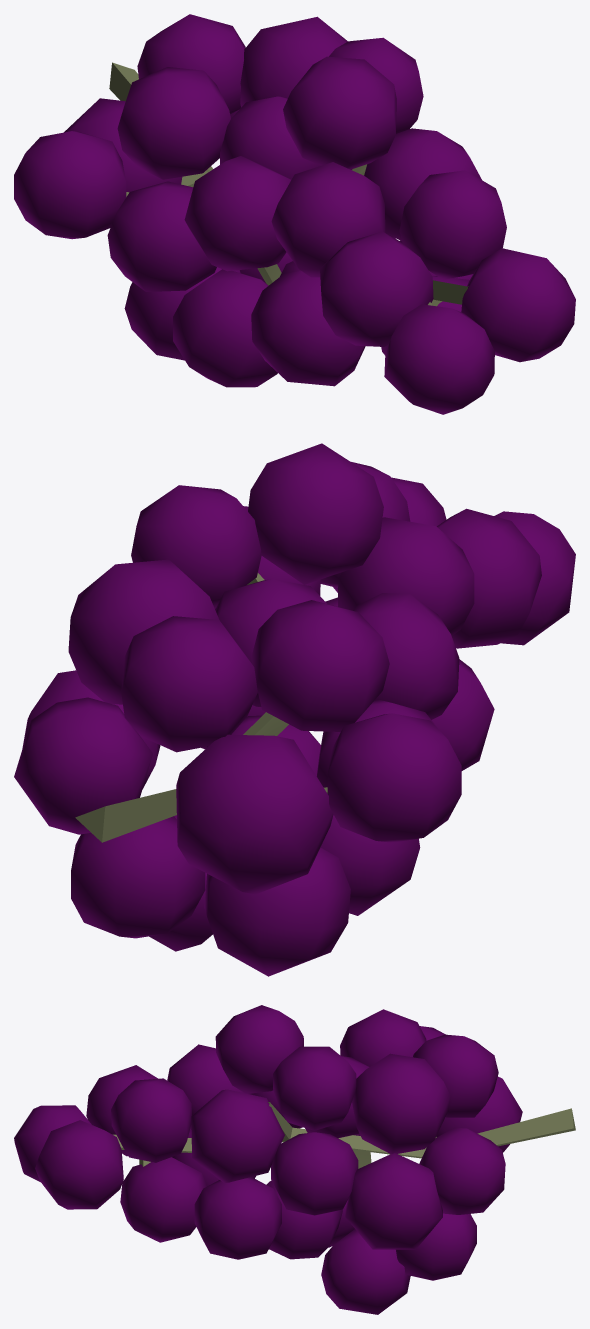
Rendered from Grapes.fbx.
3 renders of one model, top to bottom at view 1: azimuth 30°, elevation 25°; view 2: azimuth 150°, elevation 25°; view 3: azimuth 270°, elevation 25°, orthographic. The views are drawn at different scales.
Parts seen in each view (by area): view 1: pGrapes; view 2: pGrapes; view 3: pGrapes.
Boxes of the visible parts, <box> form: pGrapes: <box>14,14,575,414</box>; pGrapes: <box>14,443,575,976</box>; pGrapes: <box>14,1005,575,1314</box>.
Size of the model in its own units: 4.61 by 4.44 by 7.96.
